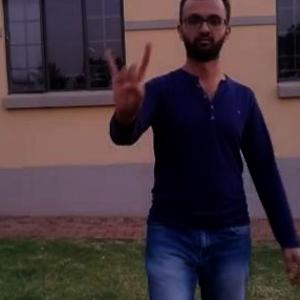takeoff-hand: (100, 36, 160, 109)
